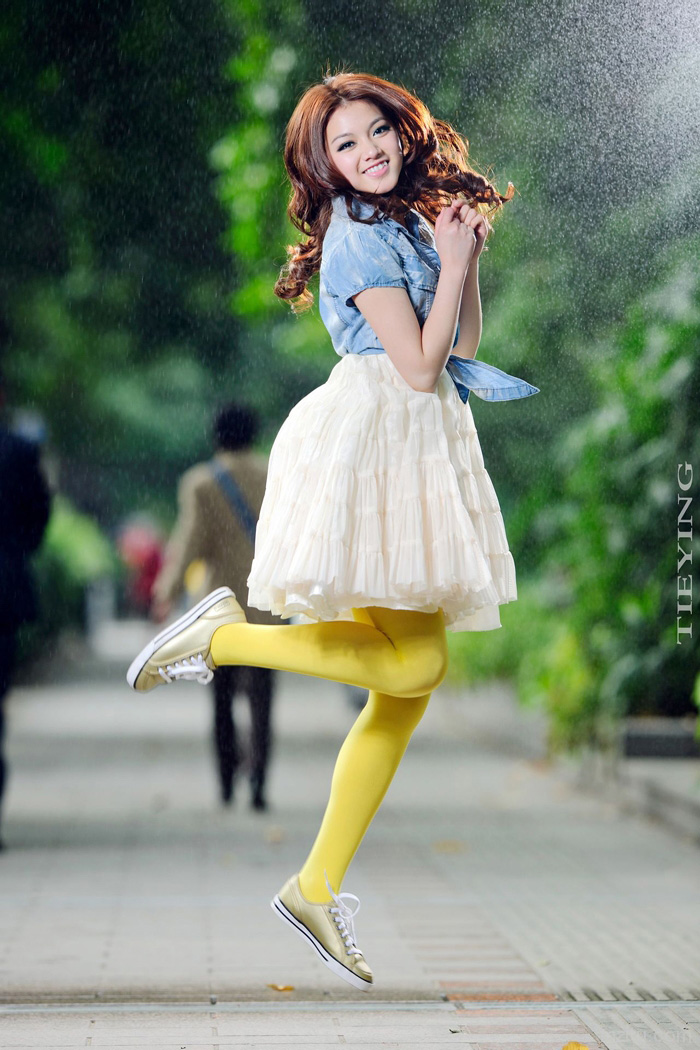women: (123, 67, 542, 985)
